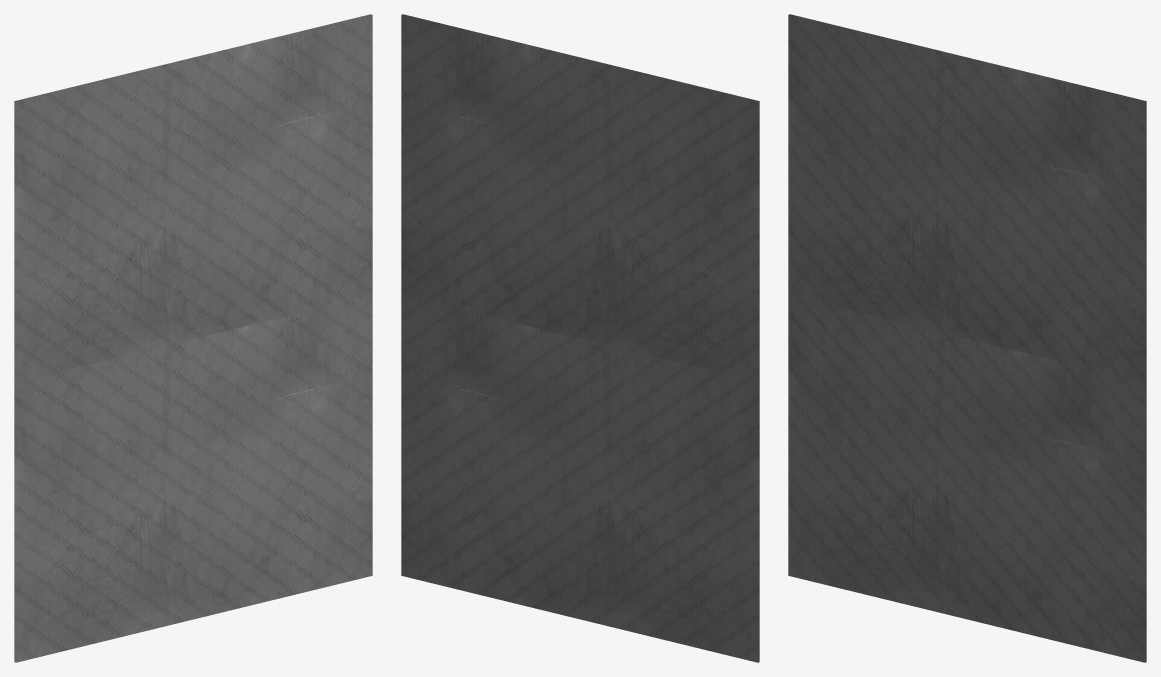
The model's file is FncMeshAShrA01.fbx.
3 renders of one model, left to right at view 1: azimuth 30°, elevation 25°; view 2: azimuth 150°, elevation 25°; view 3: azimuth 330°, elevation 25°, orthographic.
Visible parts, largest first — view 1: FncMeshAShrA01; view 2: FncMeshAShrA01; view 3: FncMeshAShrA01.
Part boxes in pixels (x1=…): FncMeshAShrA01: x1=14, y1=14, x2=372, y2=662; FncMeshAShrA01: x1=401, y1=14, x2=759, y2=662; FncMeshAShrA01: x1=788, y1=14, x2=1146, y2=662.
Size of the model in its own units: 100 by 150 by 0.5.
